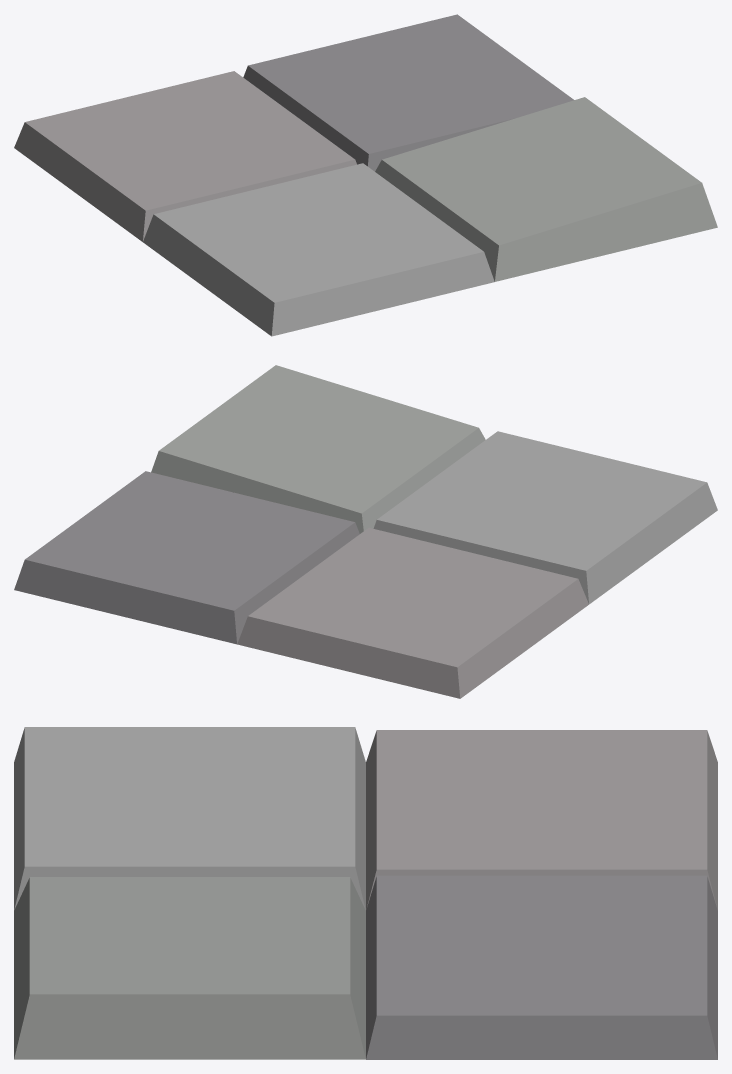
Rendered from Rock_Tiles_m_02.fbx.
3 renders of one model, top to bottom at view 1: azimuth 30°, elevation 25°; view 2: azimuth 150°, elevation 25°; view 3: azimuth 270°, elevation 25°, orthographic. The views are drawn at different scales.
Visible parts, largest first — view 1: Rock_Tiles_m_02; view 2: Rock_Tiles_m_02; view 3: Rock_Tiles_m_02.
Part boxes in pixels (x1,y1,x2,y2): Rock_Tiles_m_02: (14,14,717,336); Rock_Tiles_m_02: (14,365,717,698); Rock_Tiles_m_02: (14,727,717,1059).
Size of the model in its own units: 80 by 7.38 by 80.
